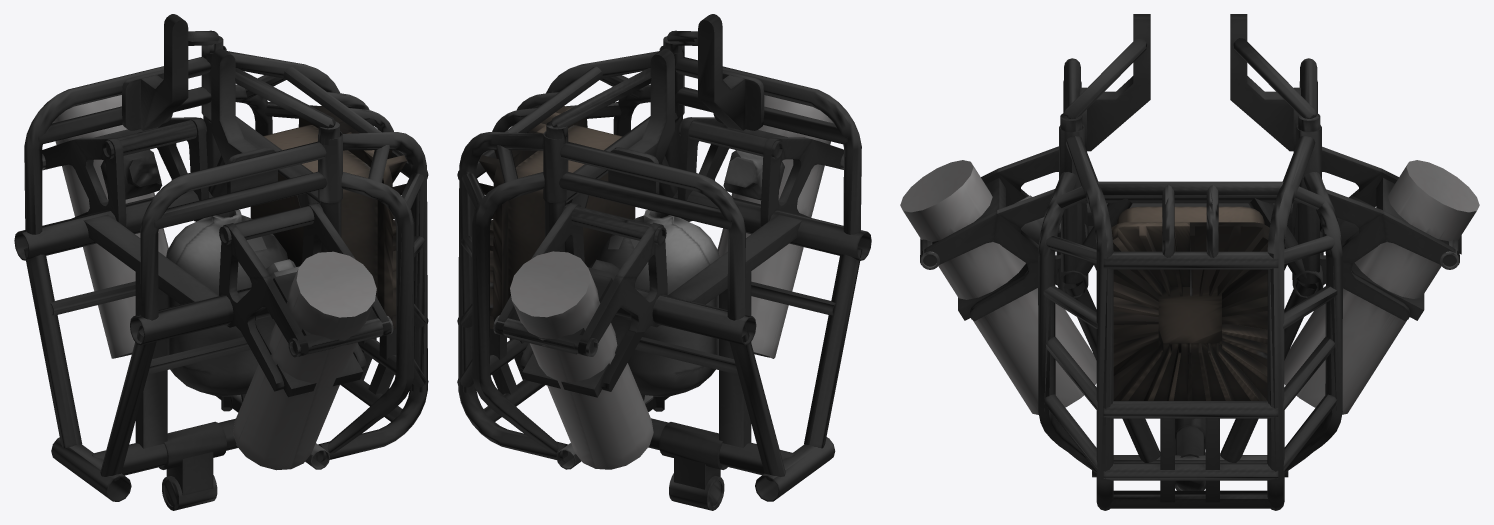
The model's file is utorso.dae.
The picture shows the model from 3 angles, left to right: view 1: azimuth 30°, elevation 25°; view 2: azimuth 150°, elevation 25°; view 3: azimuth 270°, elevation 25°; orthographic projection.
Parts seen in each view (by area): view 1: p33246, p29075, p33764, p34448_1, p34446, p33274_1, p26059, p26483_1, p26271_1; view 2: p33246, p29075, p33764, p34446, p33274_1, p34448_1, p34492, p26059, p26271_1, p26483_1; view 3: p33246, p29075, p34448_1, p34446, p33764, p33274_1, p34492.
Boxes of the visible parts, x1,y1,x2,y2 form: p33246: (24, 14, 427, 461); p29075: (51, 30, 428, 501); p33764: (14, 36, 428, 448); p34448_1: (233, 251, 376, 470); p34446: (52, 95, 168, 358); p33274_1: (42, 117, 208, 227); p26059: (159, 421, 226, 469); p26483_1: (166, 452, 213, 495); p26271_1: (162, 475, 217, 510); p33246: (458, 46, 861, 462); p29075: (457, 14, 871, 501); p33764: (457, 70, 785, 481); p34446: (512, 268, 653, 469); p33274_1: (493, 202, 667, 369); p34448_1: (717, 95, 833, 358); p34492: (510, 251, 589, 317); p26059: (659, 422, 727, 469); p26271_1: (669, 473, 724, 510); p26483_1: (674, 456, 720, 489); p33246: (920, 14, 1372, 510); p29075: (920, 14, 1461, 508); p34448_1: (900, 160, 1096, 414); p34446: (1284, 164, 1476, 414); p33764: (1043, 87, 1337, 462); p33274_1: (1292, 146, 1459, 321); p34492: (1406, 160, 1479, 212).
Bounding box in the file's own units: 0.3188 × 0.5114 × 0.4645.
